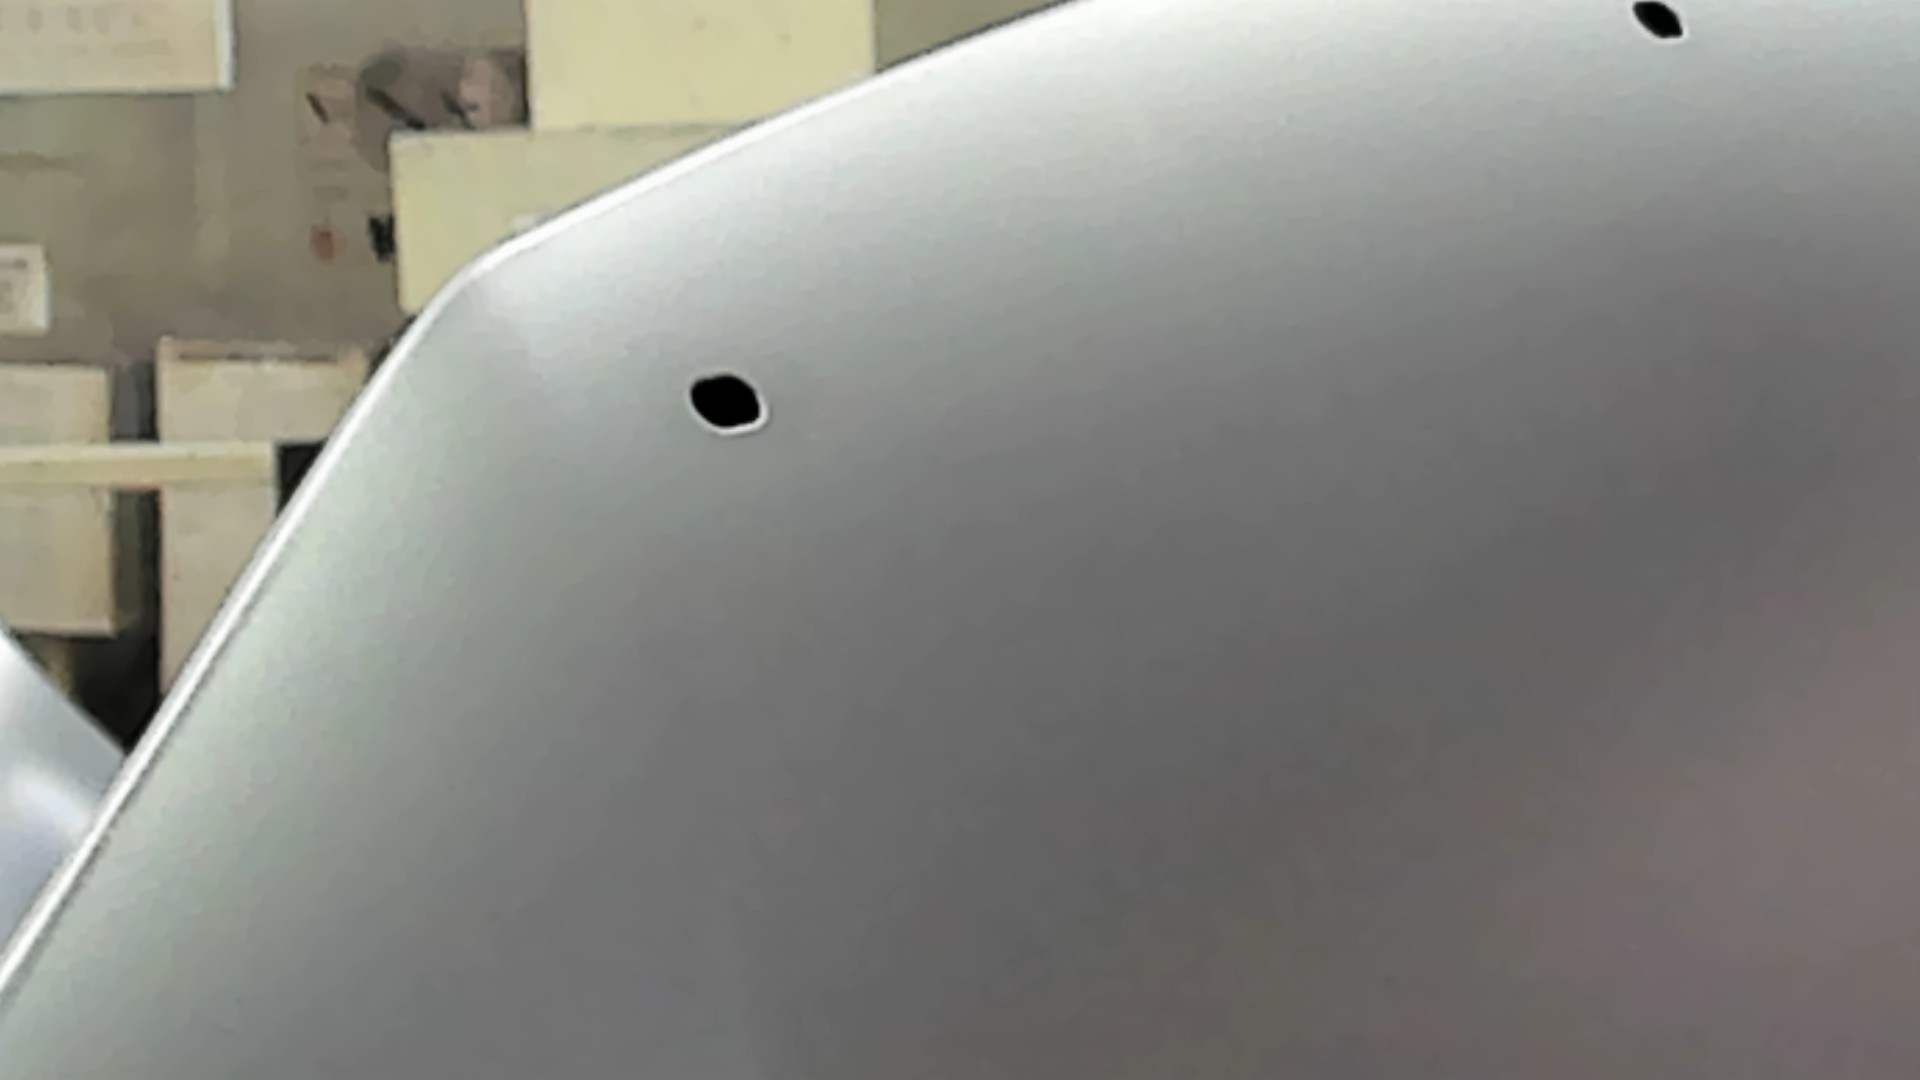amorfo: (680, 364, 771, 438), (1629, 1, 1689, 47)
capo: (876, 119, 1920, 1080)
